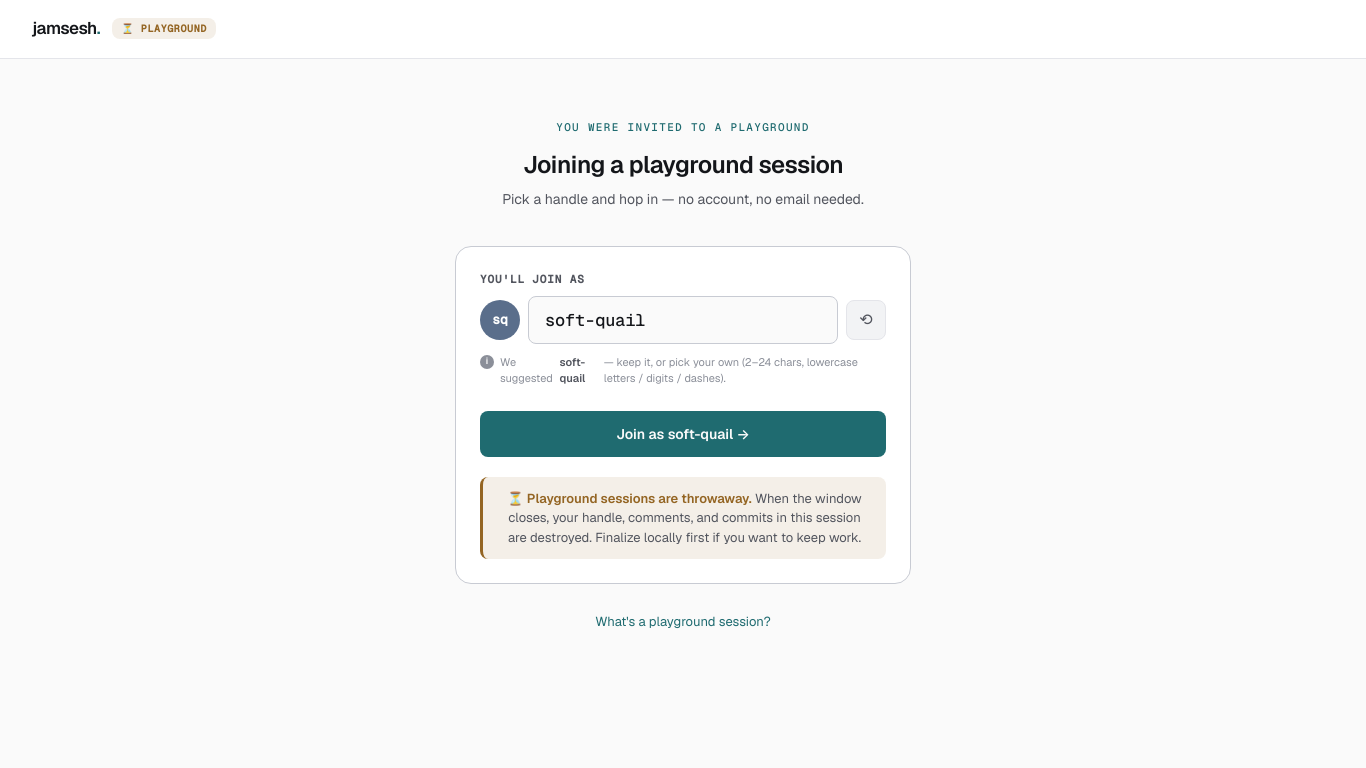
Test: JoinerPicker › the join button is disabled when the nickname is invalid
Replace the text in the field labelled "You'll join as" with "x" at (683, 320), box [528,296,838,344]
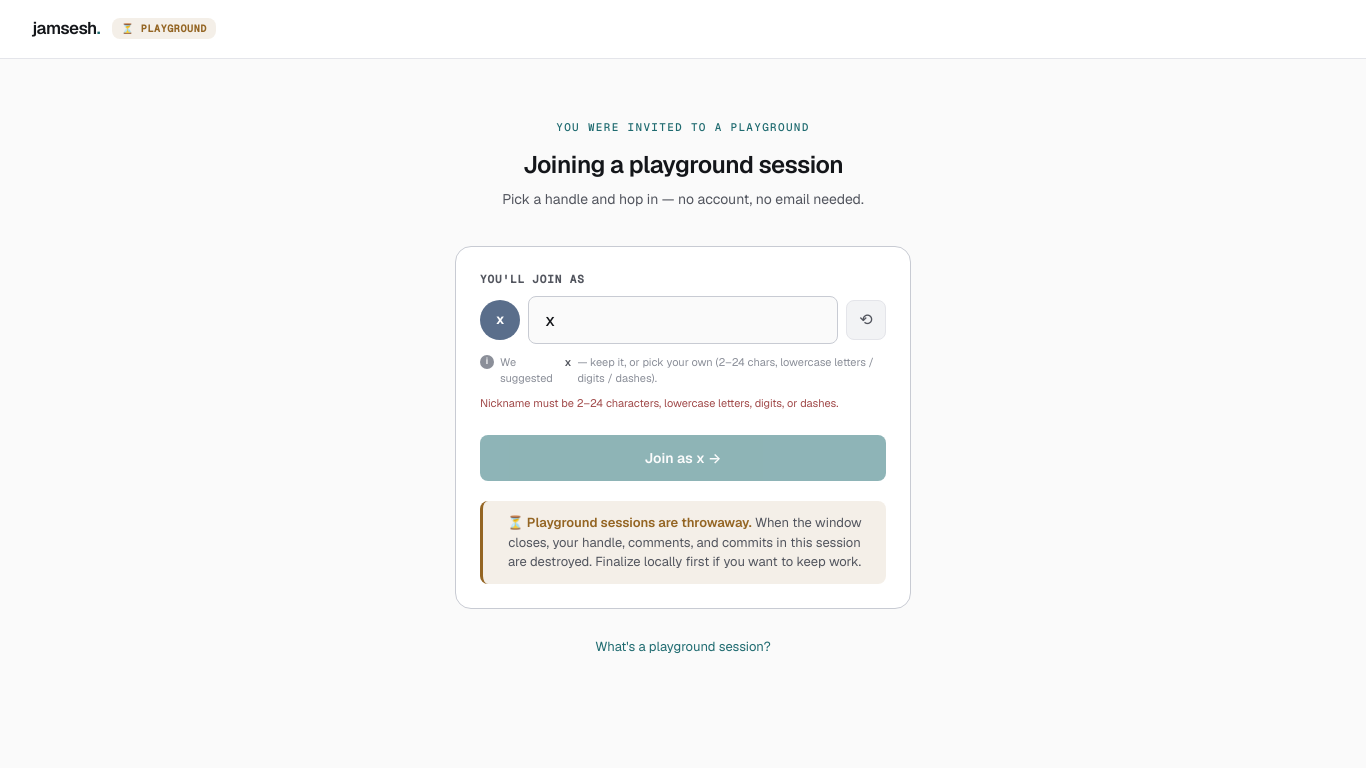
Expected: the submit button is disabled, [480,435,886,481]
